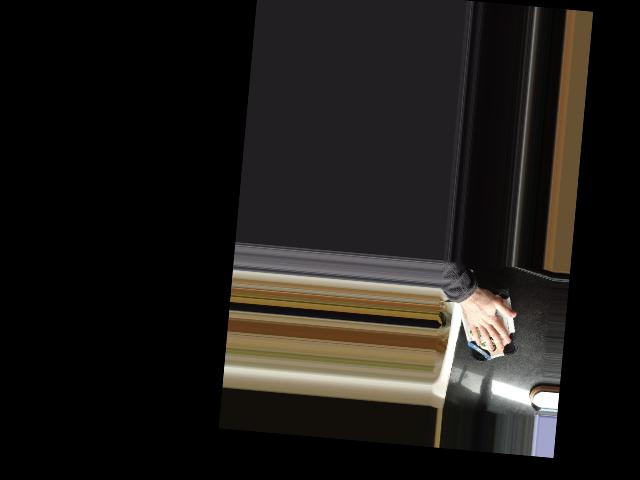cheese: (451, 283, 523, 366)
